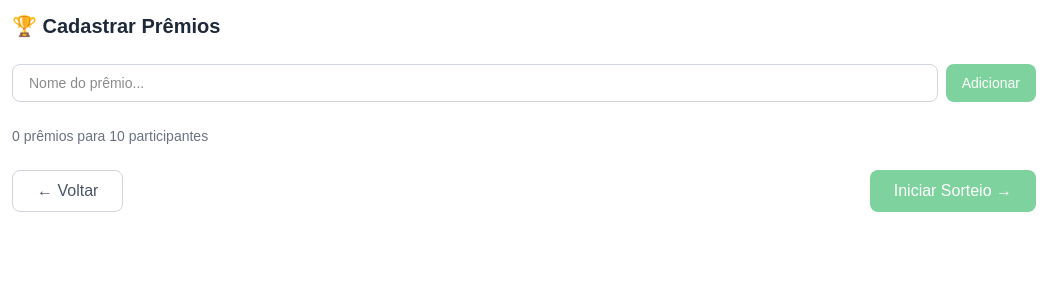
Test case: StepPrizes › removes a prize
Type "Camiseta" into the field with placeholder "Nome do prêmio..." at (475, 83), box x1=12 y1=64 x2=938 y2=102
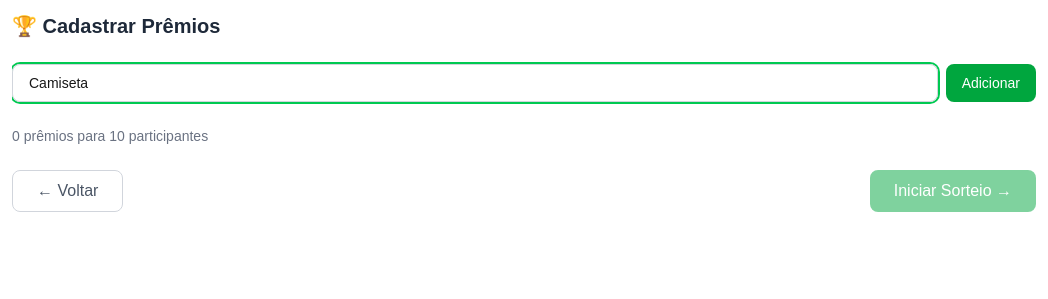
Click the button "Adicionar" at (991, 83), box x1=946 y1=64 x2=1036 y2=102
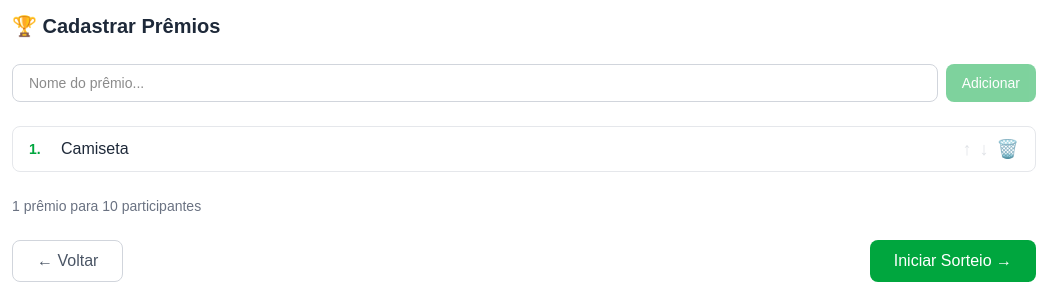
Expected: the text "Camiseta" is shown, x1=61 y1=140 x2=129 y2=157
Click the button titled "Remover" at (1008, 149), box x1=996 y1=135 x2=1019 y2=163
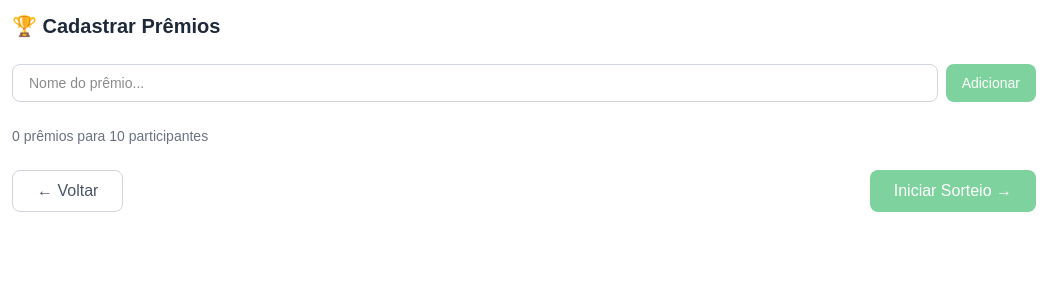
Expected: the text "Camiseta" is gone
